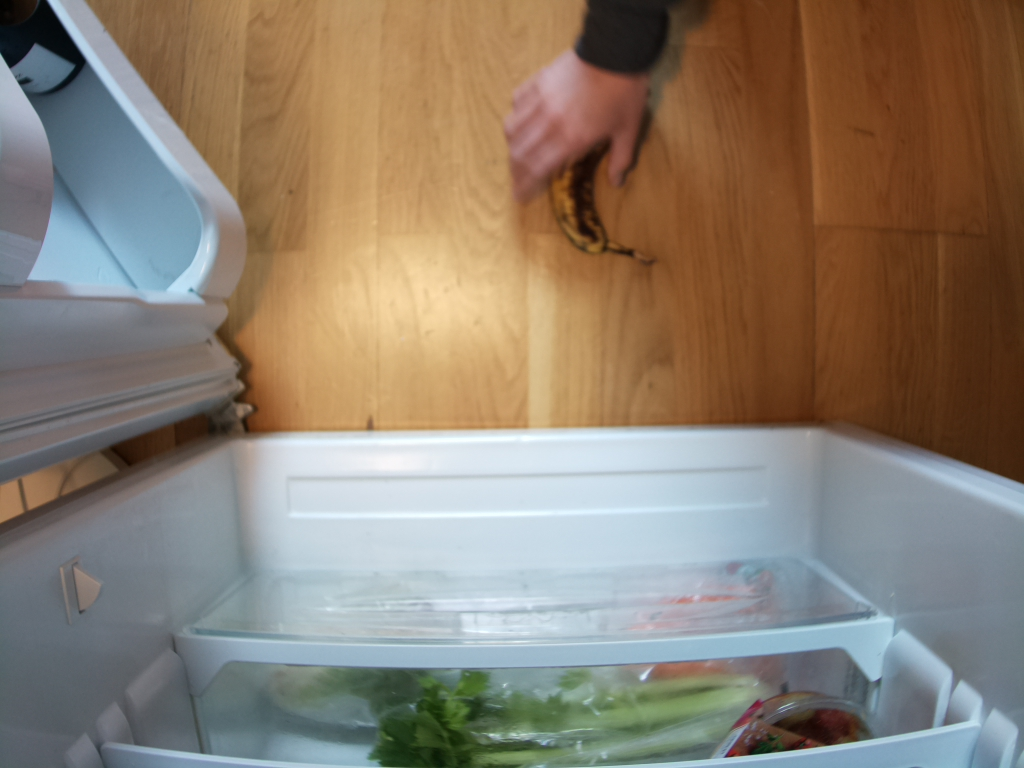banana-overripe: (547, 161, 656, 273)
